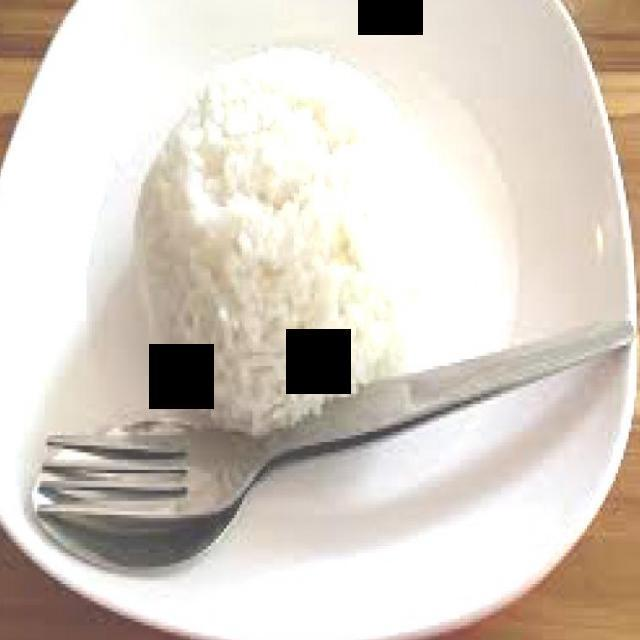Chicken -Chicken Inasal-: (139, 47, 404, 425)
